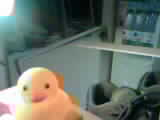duck: (8, 63, 81, 112)
